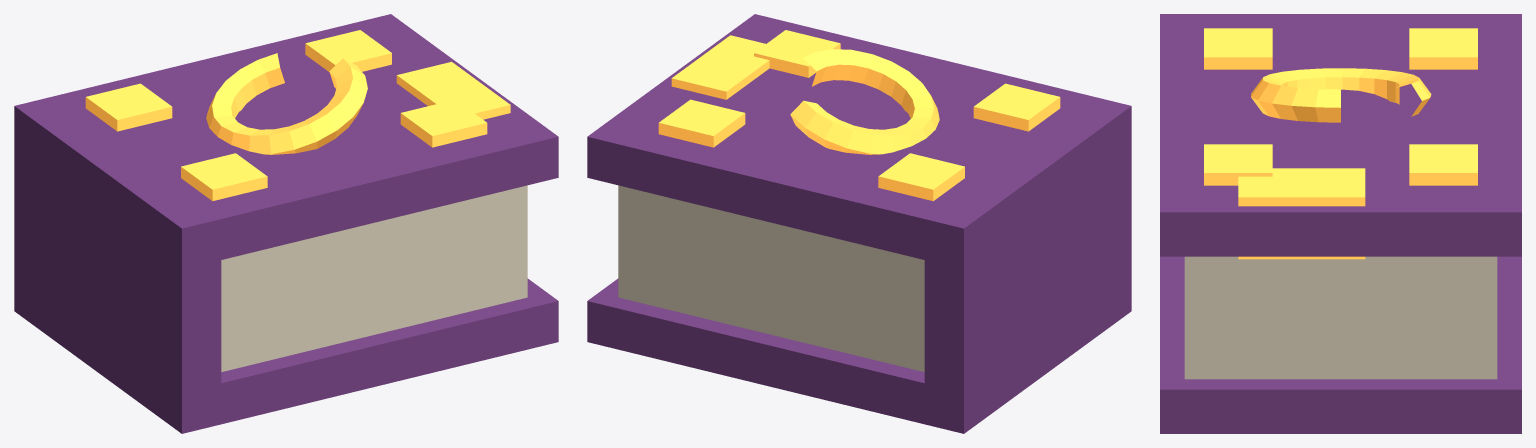
The model's file is moonlit-mischief-spellbook-177db808__2148.glb.
3 renders of one model, left to right at view 1: azimuth 30°, elevation 25°; view 2: azimuth 150°, elevation 25°; view 3: azimuth 270°, elevation 25°, orthographic. The views are drawn at different scales.
Parts seen in each view (by area): view 1: spellbook; view 2: spellbook; view 3: spellbook.
Boxes of the visible parts, x1,y1,x2,y2 form: spellbook: [14, 14, 558, 433]; spellbook: [587, 14, 1131, 433]; spellbook: [1160, 14, 1521, 433].
Size of the model in its own units: 0.48 by 0.3102 by 0.37.
